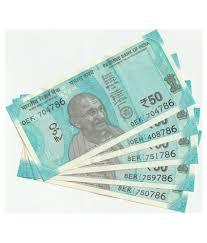fifty: (17, 75, 182, 144)
